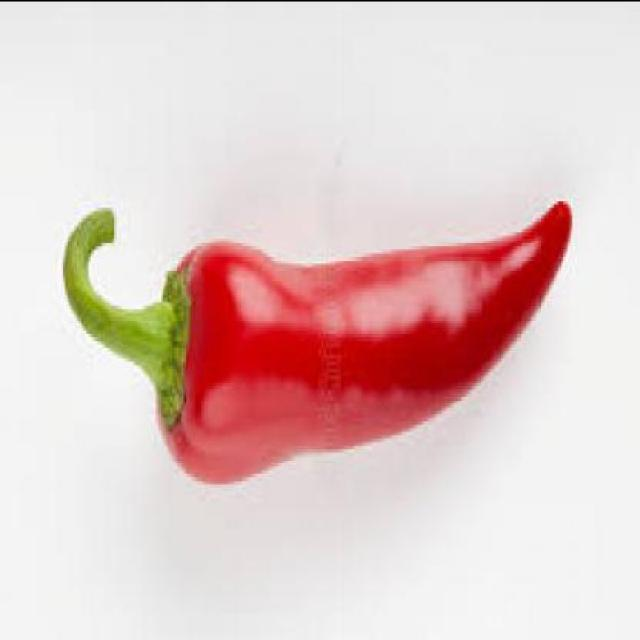BIODEGRADABLE: (60, 206, 571, 489)
